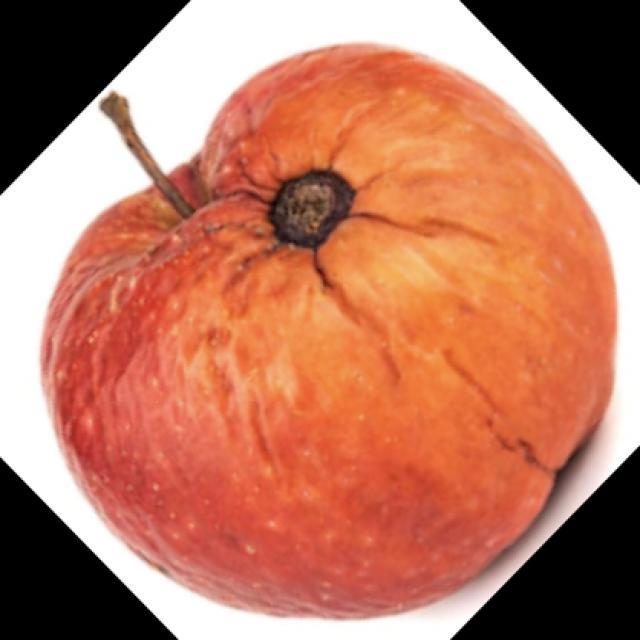Rotten: (57, 63, 610, 610)
